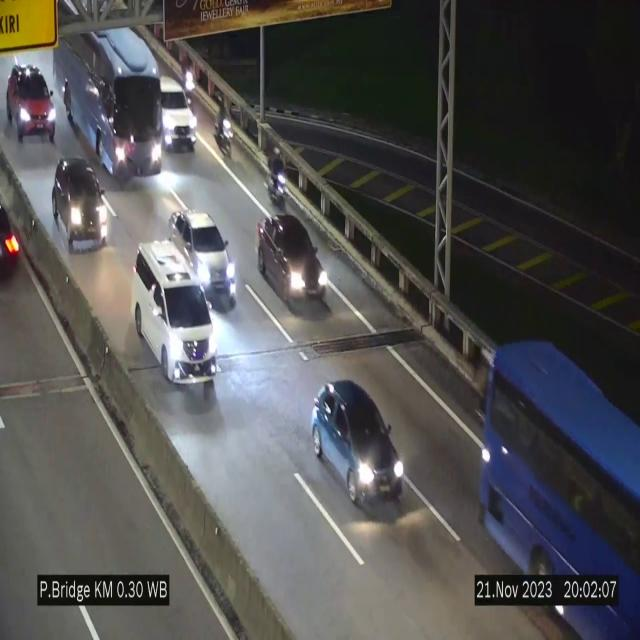Bus: (50, 34, 166, 182)
Car: (130, 238, 221, 389), (311, 377, 405, 509), (254, 210, 330, 306), (167, 206, 238, 307), (49, 156, 110, 254), (5, 62, 58, 147), (153, 70, 199, 156)
Motorcycle: (214, 89, 233, 163), (267, 143, 285, 207), (181, 44, 200, 104)
